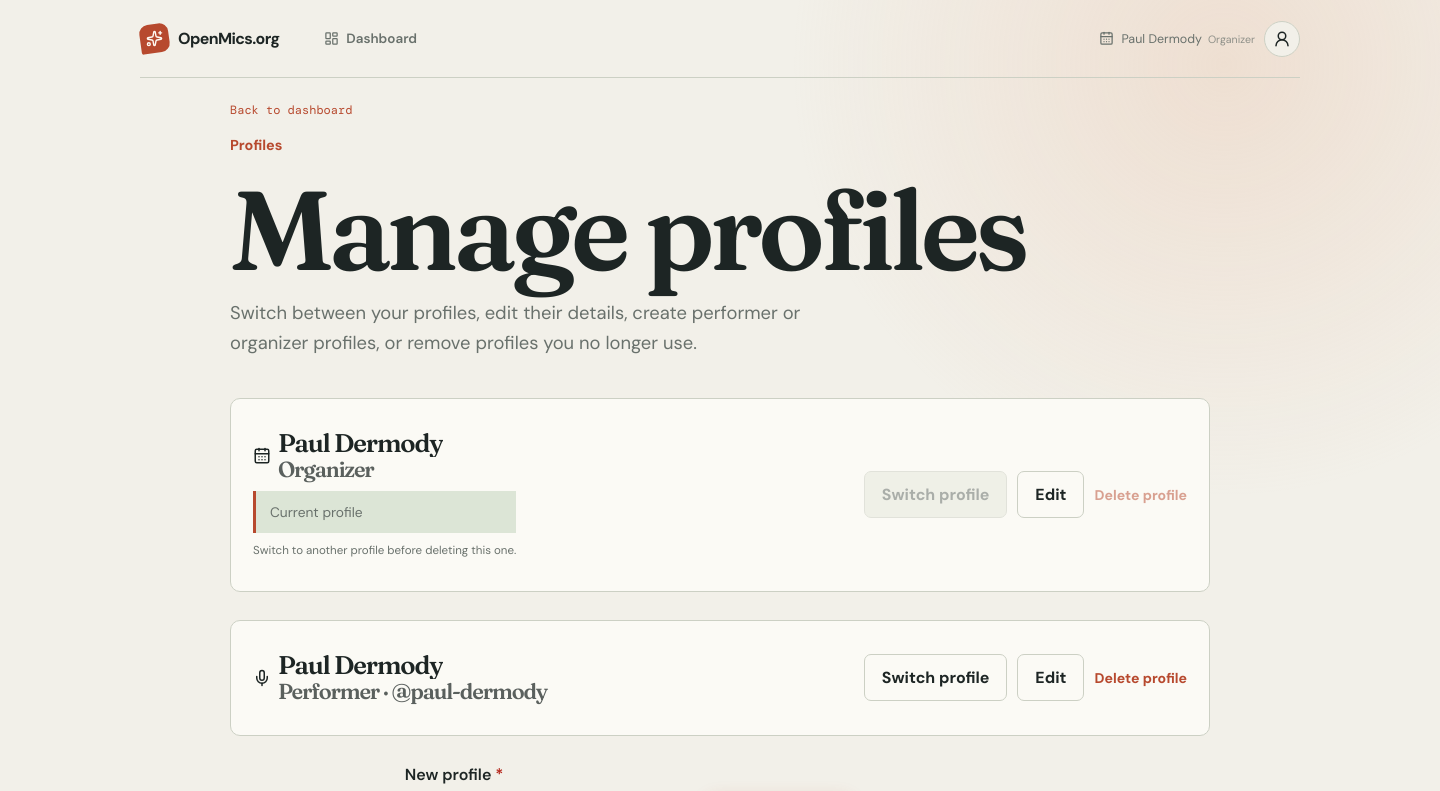
Test: profile deletion guards in Manage Profiles › keeps Confirm disabled until the exact profile name is typed
Click the button "Delete profile" in the row of "paul-dermody". click: point(1141, 678)
box: [1094,654,1187,701]
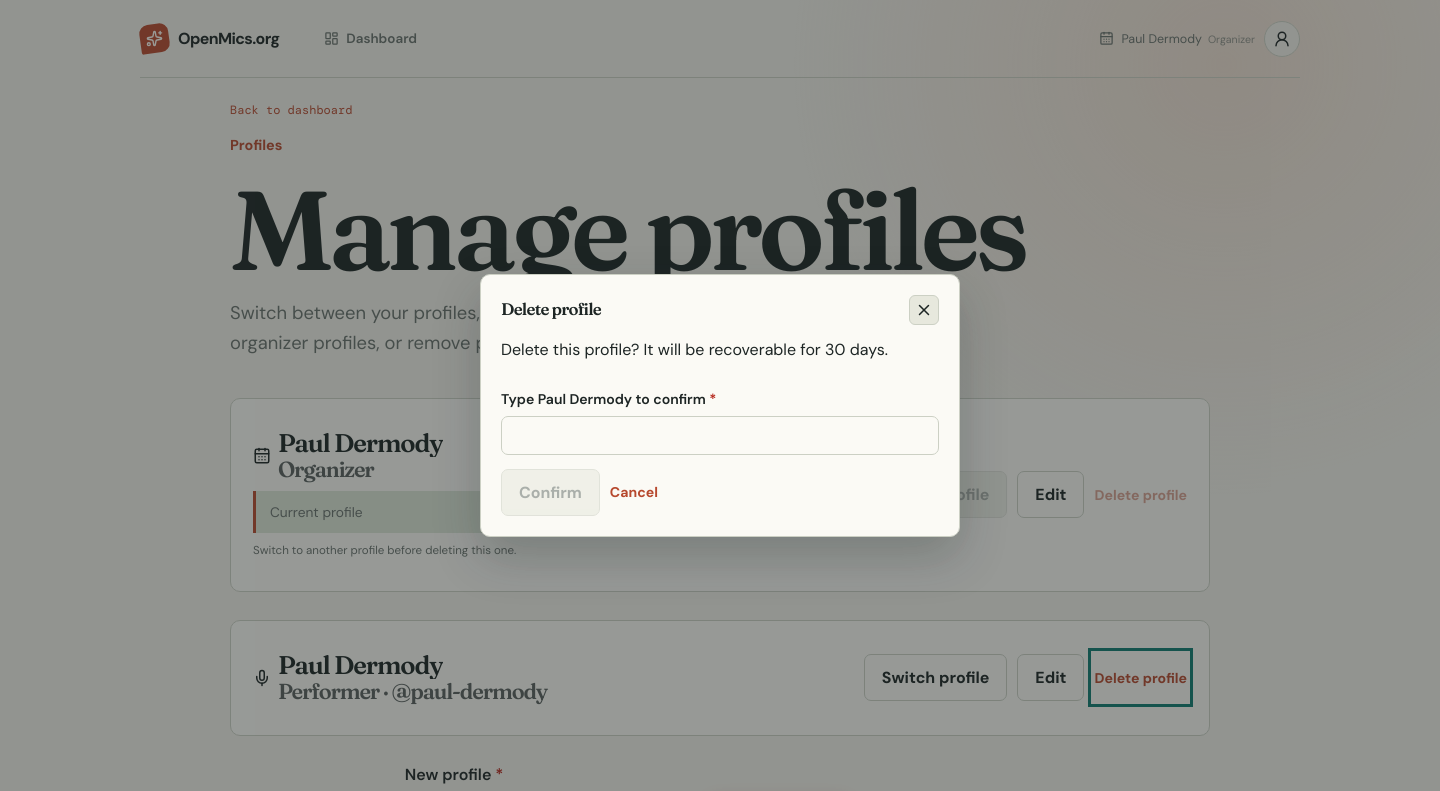
Expected: the button "Confirm" is disabled, [501,468,600,516]
Type "paul dermody" into the field labelled "Type Paul Dermody to confirm *". click: point(720, 435)
box: [501,416,939,454]
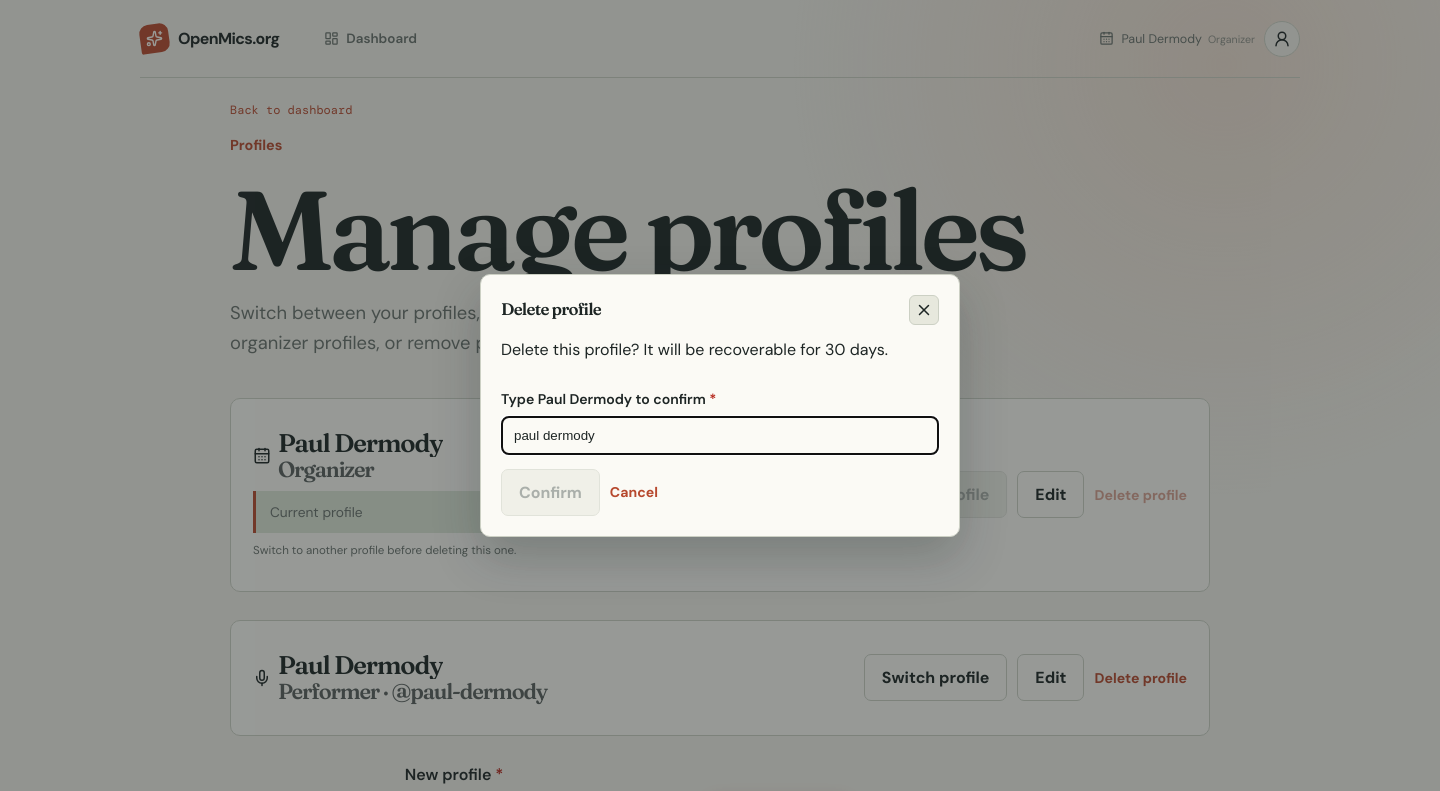
Expected: the button "Confirm" is disabled, [501,468,600,516]
Replace the text in the field labelled "Type Paul Dermody to confirm *" with "Paul Dermody". click: point(720, 435)
box: [501,416,939,454]
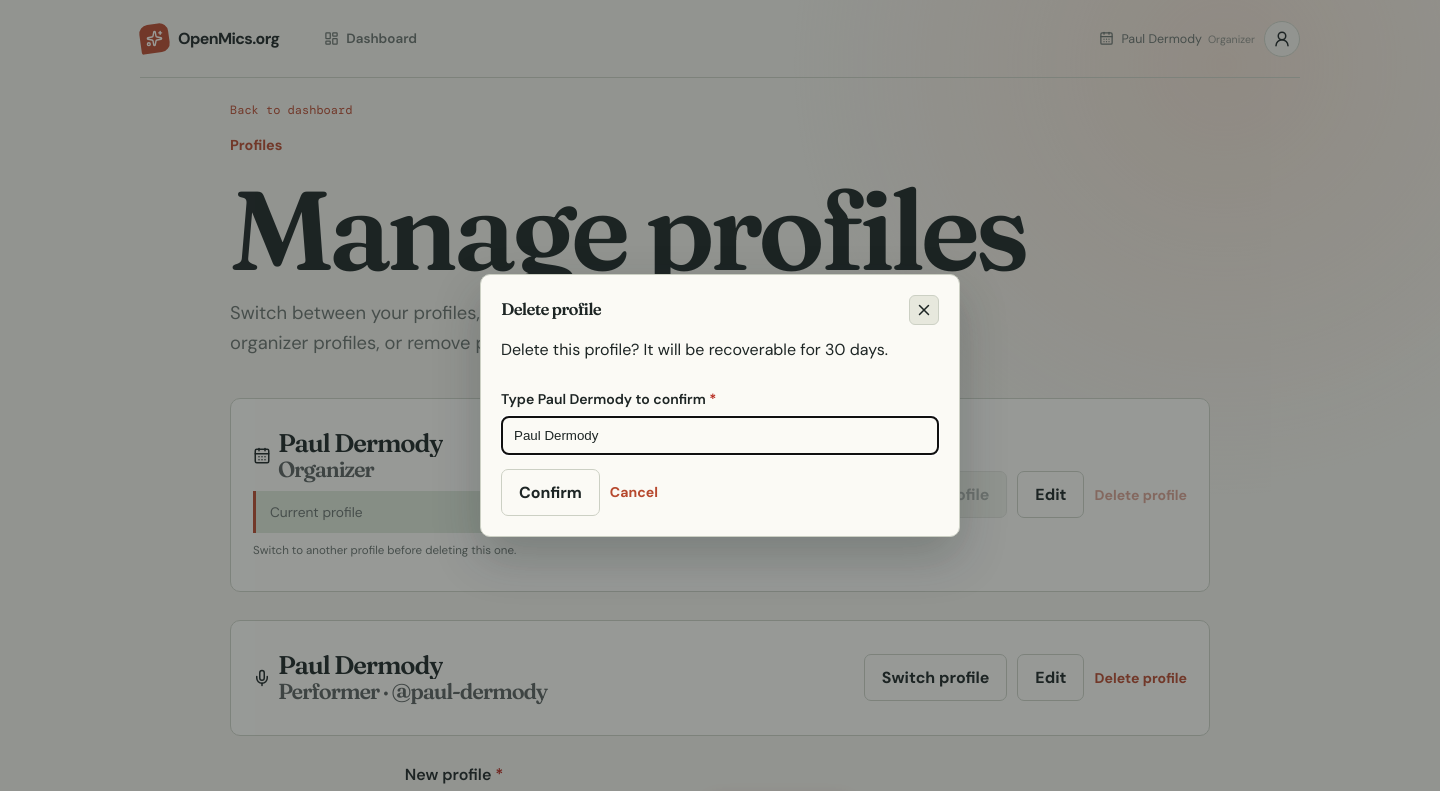
Expected: the button "Confirm" is enabled, [501,468,600,516]
